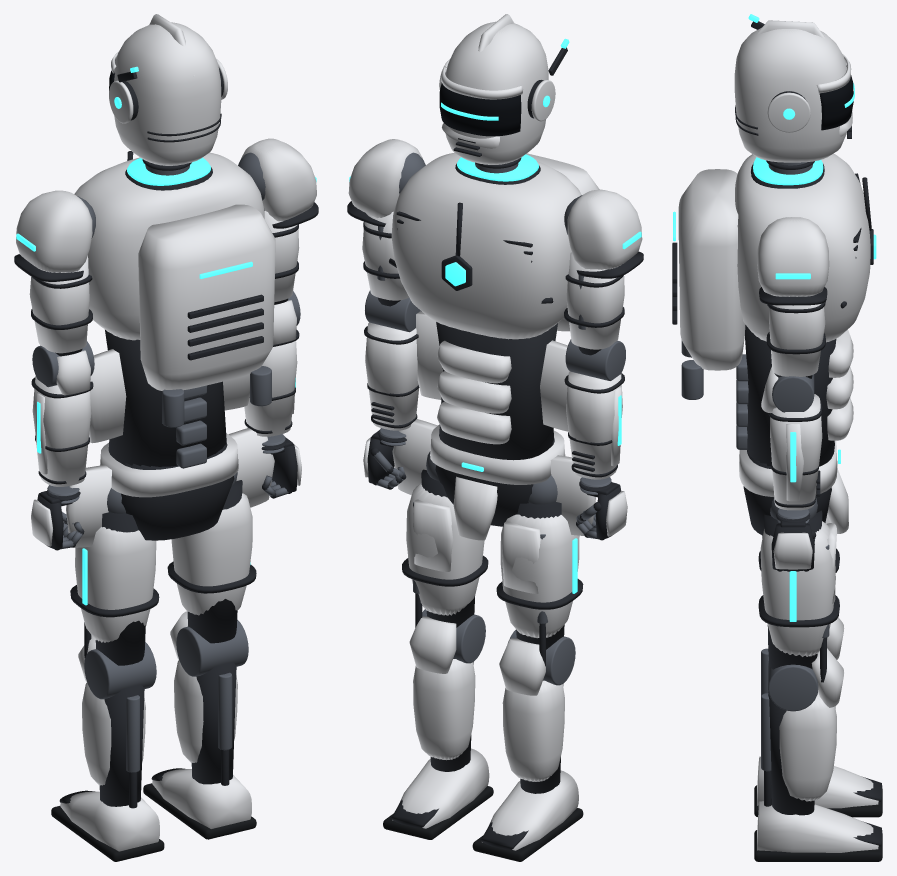
The model's file is robot.glb.
3 views of the same model, side by side, from view 1: azimuth 30°, elevation 25°; view 2: azimuth 150°, elevation 25°; view 3: azimuth 270°, elevation 25° (orthographic). The views are drawn at different scales.
Visible parts, largest first — view 1: torso__rx7_armor, head__rx7_armor, torso__rx7_frame, upL__rx7_armor, pelvis__rx7_armor, thighL__rx7_armor, shinR__rx7_armor, shinL__rx7_armor, thighR__rx7_armor, foreL__rx7_armor, upR__rx7_armor, torso__rx7_joint (+19 smaller); view 2: torso__rx7_armor, shinR__rx7_armor, shinL__rx7_armor, head__rx7_armor, pelvis__rx7_armor, torso__rx7_frame, upL__rx7_armor, thighL__rx7_armor, thighR__rx7_armor, upR__rx7_armor, foreL__rx7_armor, foreR__rx7_armor (+23 smaller); view 3: torso__rx7_armor, head__rx7_armor, shinR__rx7_armor, upR__rx7_armor, thighR__rx7_armor, torso__rx7_frame, foreR__rx7_armor, shinR__rx7_joint, pelvis__rx7_armor, shinR__rx7_frame, shinL__rx7_armor, torso__rx7_joint (+11 smaller).
Boxes of the visible parts, bbox=[...] form: torso__rx7_armor: bbox=[74, 152, 275, 443]; head__rx7_armor: bbox=[109, 14, 227, 165]; torso__rx7_frame: bbox=[105, 151, 263, 466]; upL__rx7_armor: bbox=[16, 190, 92, 353]; pelvis__rx7_armor: bbox=[66, 428, 274, 547]; thighL__rx7_armor: bbox=[75, 527, 156, 642]; shinR__rx7_armor: bbox=[152, 611, 251, 834]; shinL__rx7_armor: bbox=[60, 635, 159, 857]; thighR__rx7_armor: bbox=[171, 493, 252, 615]; foreL__rx7_armor: bbox=[32, 350, 91, 486]; upR__rx7_armor: bbox=[241, 138, 316, 302]; torso__rx7_joint: bbox=[77, 152, 271, 468]; torso__rx7_armor: bbox=[391, 153, 599, 444]; shinR__rx7_armor: bbox=[392, 616, 489, 828]; shinL__rx7_armor: bbox=[482, 638, 578, 850]; head__rx7_armor: bbox=[439, 14, 555, 164]; pelvis__rx7_armor: bbox=[392, 419, 595, 540]; torso__rx7_frame: bbox=[389, 157, 557, 460]; upL__rx7_armor: bbox=[566, 189, 642, 349]; thighL__rx7_armor: bbox=[500, 514, 579, 638]; thighR__rx7_armor: bbox=[406, 483, 484, 615]; upR__rx7_armor: bbox=[348, 139, 422, 300]; foreL__rx7_armor: bbox=[566, 340, 622, 479]; foreR__rx7_armor: bbox=[365, 322, 418, 430]; torso__rx7_armor: bbox=[678, 153, 870, 440]; head__rx7_armor: bbox=[734, 20, 852, 162]; shinR__rx7_armor: bbox=[757, 648, 878, 852]; upR__rx7_armor: bbox=[757, 217, 829, 376]; thighR__rx7_armor: bbox=[760, 521, 836, 656]; torso__rx7_frame: bbox=[672, 160, 873, 466]; foreR__rx7_armor: bbox=[761, 367, 822, 510]; shinR__rx7_joint: bbox=[761, 661, 818, 814]; pelvis__rx7_armor: bbox=[739, 440, 848, 533]; shinR__rx7_frame: bbox=[764, 692, 882, 846]; shinL__rx7_armor: bbox=[757, 617, 878, 808]; torso__rx7_joint: bbox=[681, 161, 812, 449].
Bounding box in the file's own units: 0.6509 × 1.78 × 0.4175.
